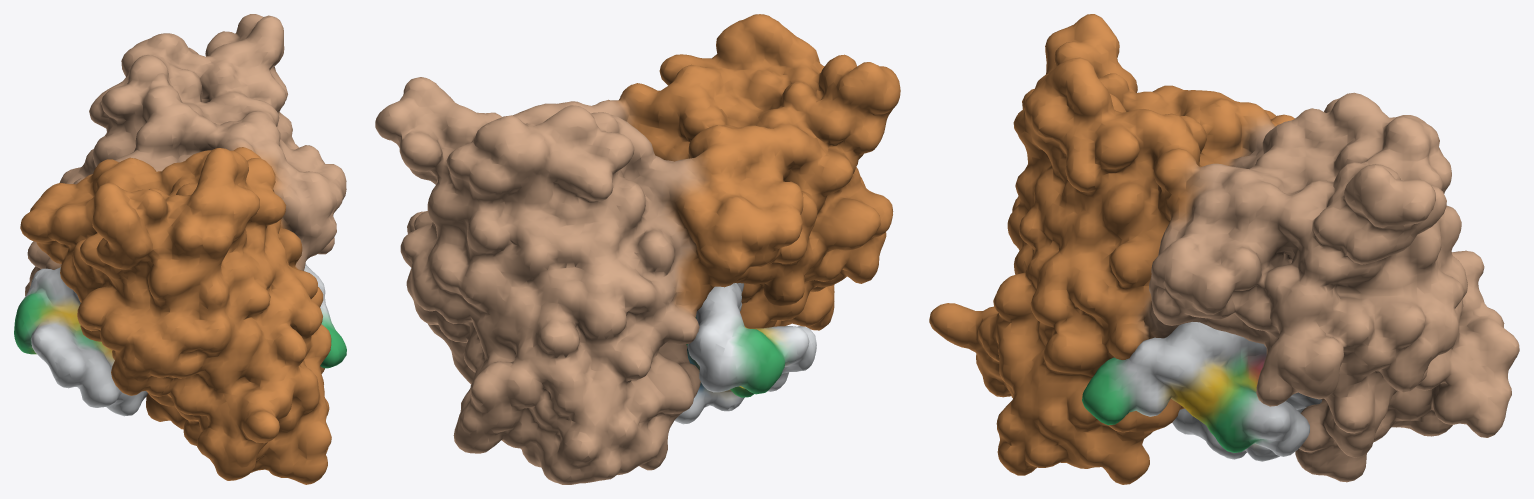
File: 1BHM.glb
The picture shows the model from 3 angles, left to right: view 1: azimuth 30°, elevation 25°; view 2: azimuth 150°, elevation 25°; view 3: azimuth 270°, elevation 25°; orthographic projection. The views are drawn at different scales.
Visible parts, largest first — view 1: 1BHM_protein, 1BHM_dna; view 2: 1BHM_protein, 1BHM_dna; view 3: 1BHM_protein, 1BHM_dna.
Boxes of the visible parts, box(x1,y1,x2,y2) form: 1BHM_protein: box(20, 14, 346, 484); 1BHM_dna: box(14, 264, 346, 416); 1BHM_protein: box(375, 14, 900, 484); 1BHM_dna: box(674, 283, 816, 424); 1BHM_protein: box(929, 14, 1519, 484); 1BHM_dna: box(1082, 322, 1321, 461).
Size of the model in its own units: 5.72 by 5.39 by 7.58.
